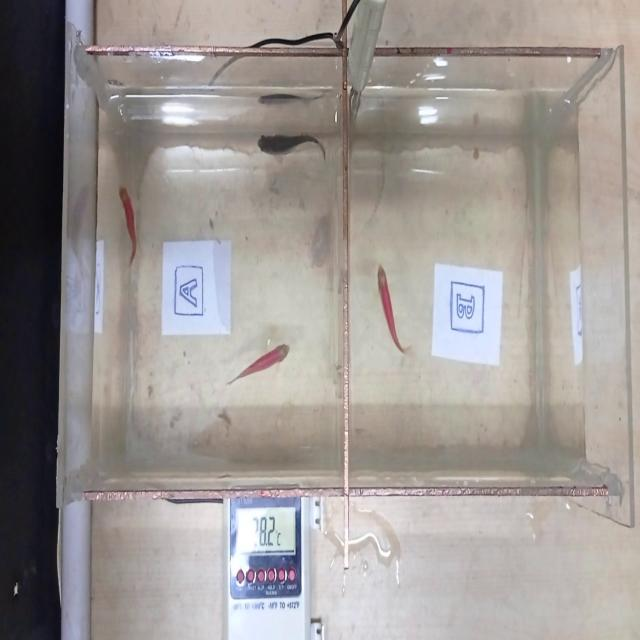Fish A1: (248, 120, 336, 185)
Fish A2: (110, 175, 147, 282)
Fish A3: (218, 322, 294, 408)
Fish B: (368, 246, 419, 381)
